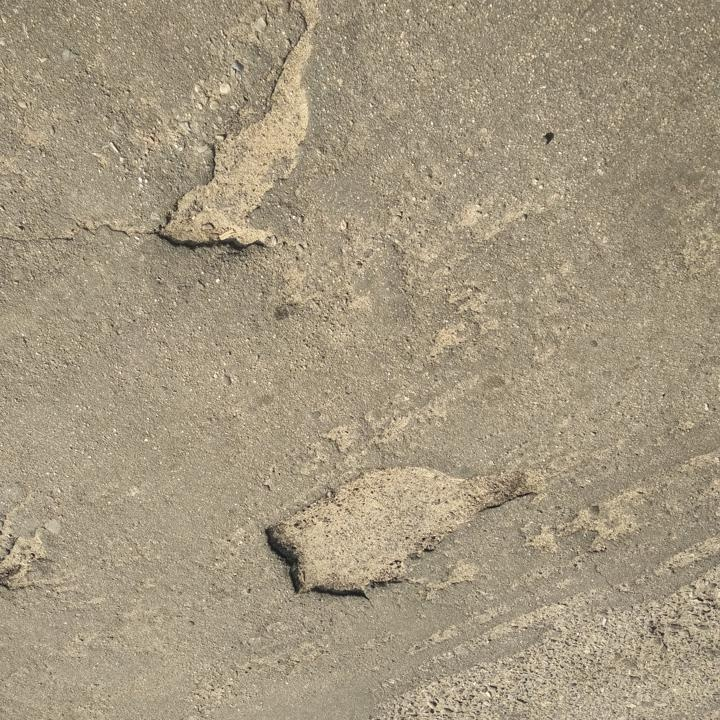pothole: (153, 0, 326, 256), (255, 456, 544, 605), (0, 512, 58, 593)
